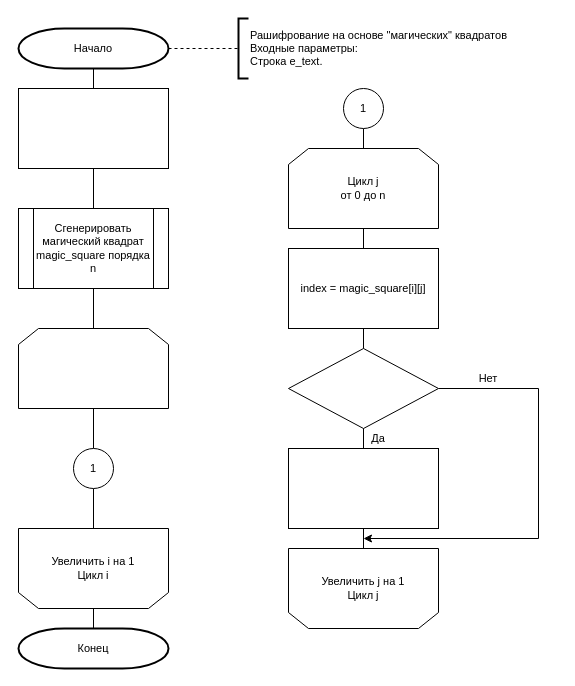
This 575x686 diagram has some shape labels left out. The box of each missing label's shape, as (x1, y1, x2, y2) in pixels:
index <= size: (288, 348, 438, 428)
size = e_text.length() n = ceil(sqrt(size)) text.resize(size) cnt = 0: (18, 88, 168, 168)
text[index-1] = e_text[cnt++]: (288, 448, 438, 528)
Цикл i от 0 до n: (18, 328, 168, 408)
